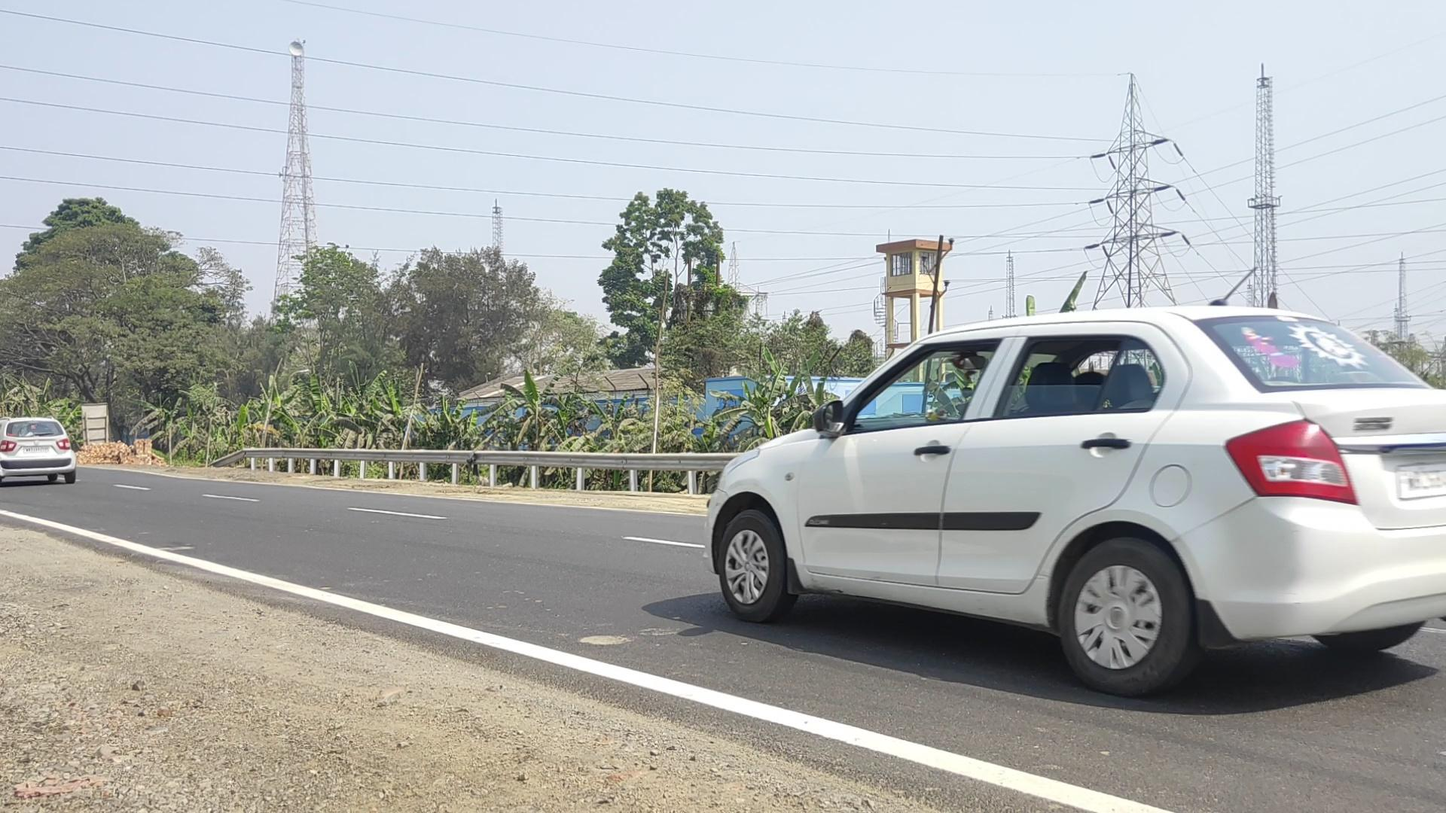car: (707, 300, 1446, 698), (1, 416, 75, 486)
